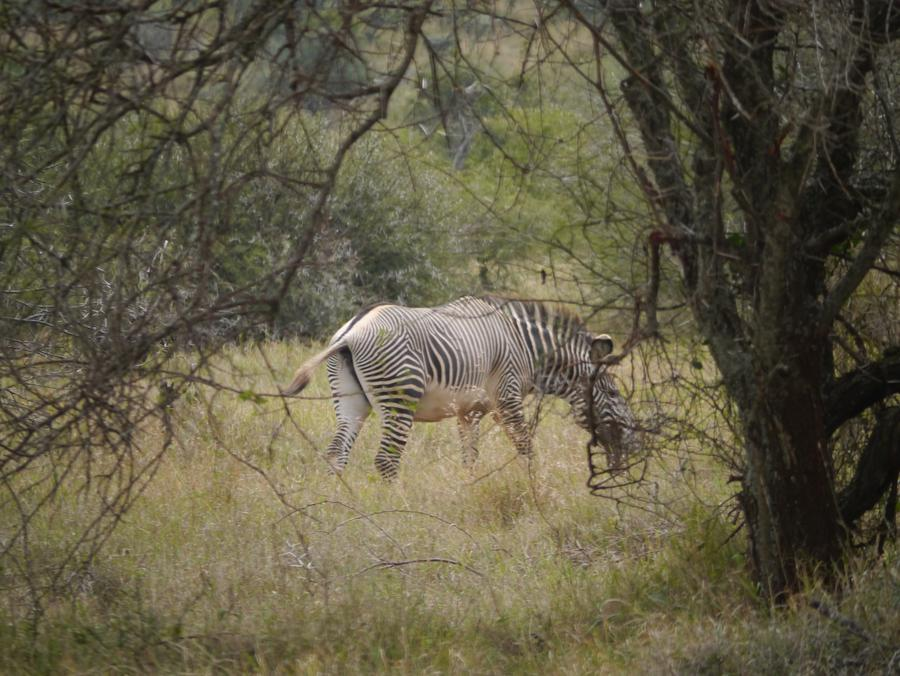zebra_grevys: (346, 295, 521, 402)
